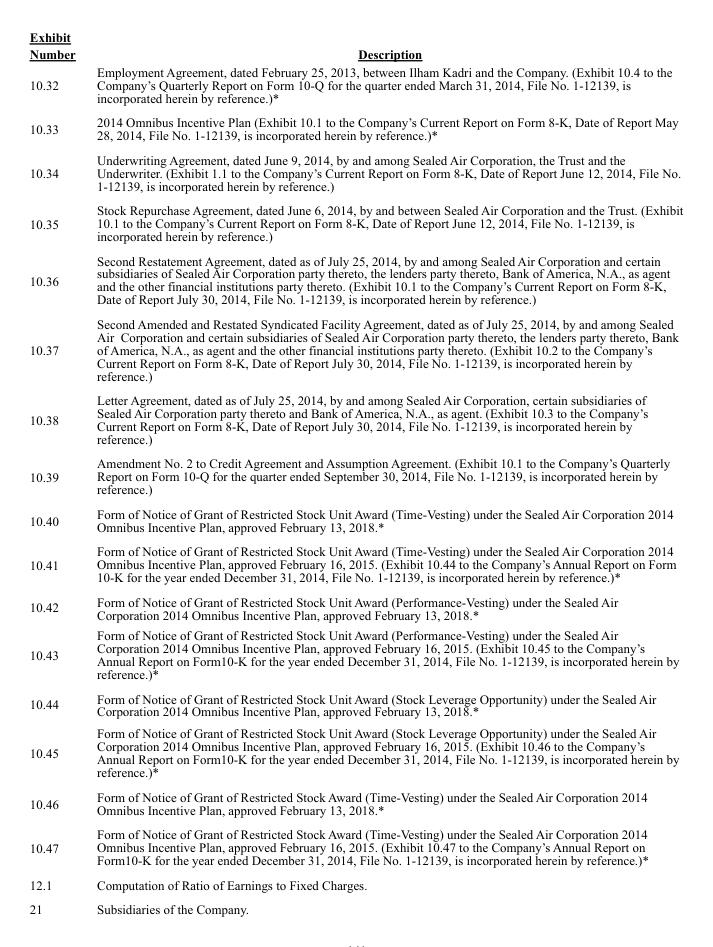table: (28, 29, 682, 915)
table column: (85, 29, 682, 915), (28, 29, 85, 915)
table column header: (28, 29, 682, 62)
table row: (28, 311, 682, 387), (28, 247, 682, 311), (28, 387, 682, 450), (28, 722, 682, 784), (28, 624, 682, 685), (28, 450, 682, 501), (28, 538, 682, 589), (28, 147, 682, 197), (28, 197, 682, 247), (28, 821, 682, 871), (28, 62, 682, 109), (28, 109, 682, 147), (28, 501, 682, 538), (28, 685, 682, 722), (28, 784, 682, 821), (28, 589, 682, 624), (28, 29, 682, 62), (28, 871, 682, 896), (28, 896, 682, 915)
